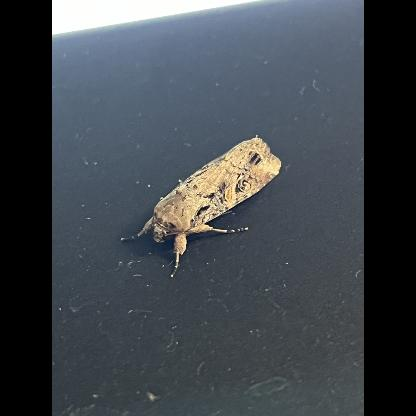Fall Armyworm Moth: (120, 133, 284, 279)
